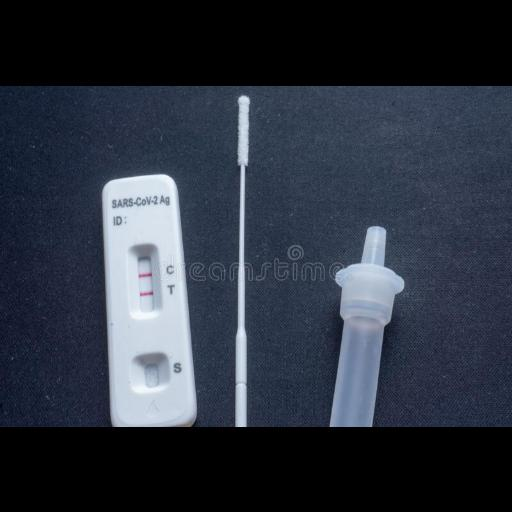Pos: (102, 172, 198, 426)
